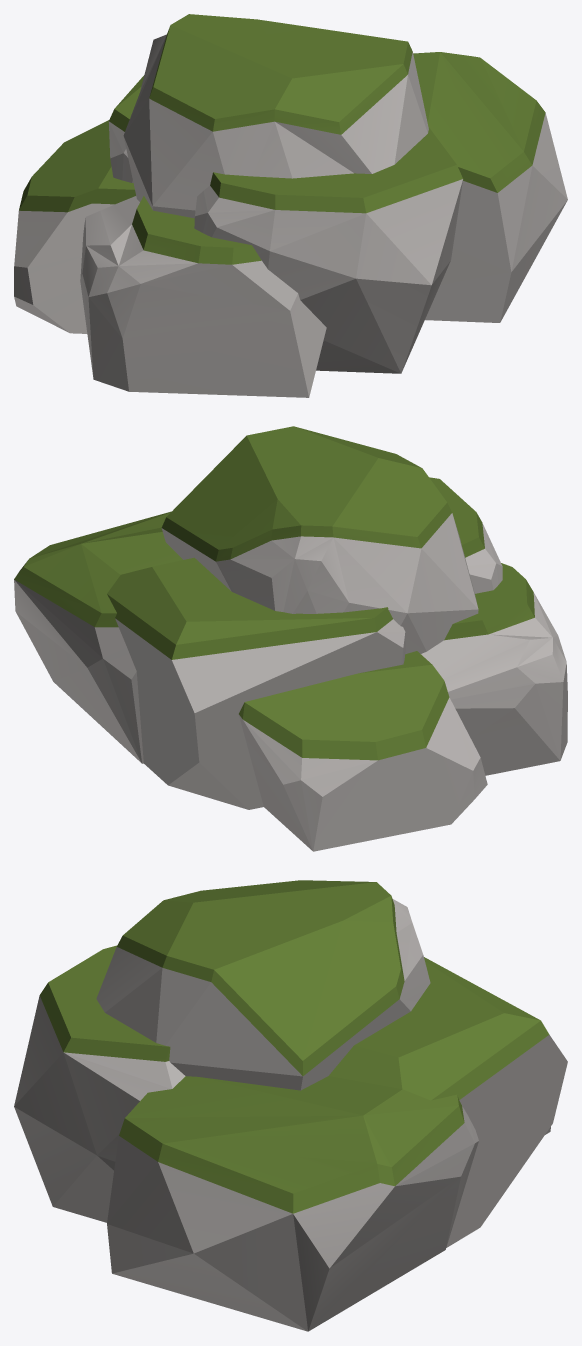
The model's file is RockStack_3.fbx.
The picture shows the model from 3 angles, top to bottom: view 1: azimuth 30°, elevation 25°; view 2: azimuth 150°, elevation 25°; view 3: azimuth 270°, elevation 25°; orthographic projection. The views are drawn at different scales.
Visible parts, largest first — view 1: RockStack_3; view 2: RockStack_3; view 3: RockStack_3.
Part boxes in pixels (left/top/right/bottom): RockStack_3: left=14, top=14, right=567, bottom=397; RockStack_3: left=14, top=426, right=567, bottom=851; RockStack_3: left=14, top=880, right=567, bottom=1331.
Bounding box in the file's own units: 155 × 75.85 × 135.
